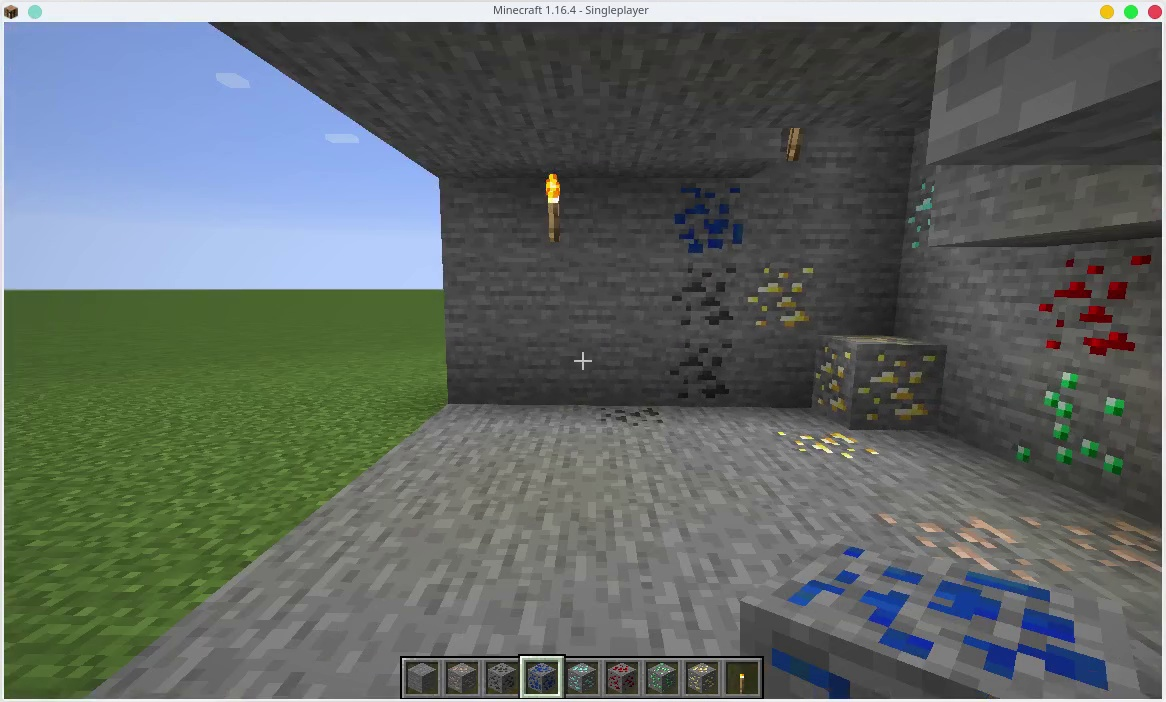gold: (812, 333, 939, 417), (742, 265, 810, 327), (774, 423, 875, 461), (683, 662, 717, 692)
